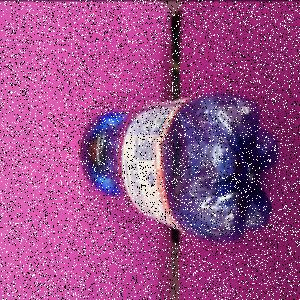Plastic-bottle: (79, 93, 281, 245)
